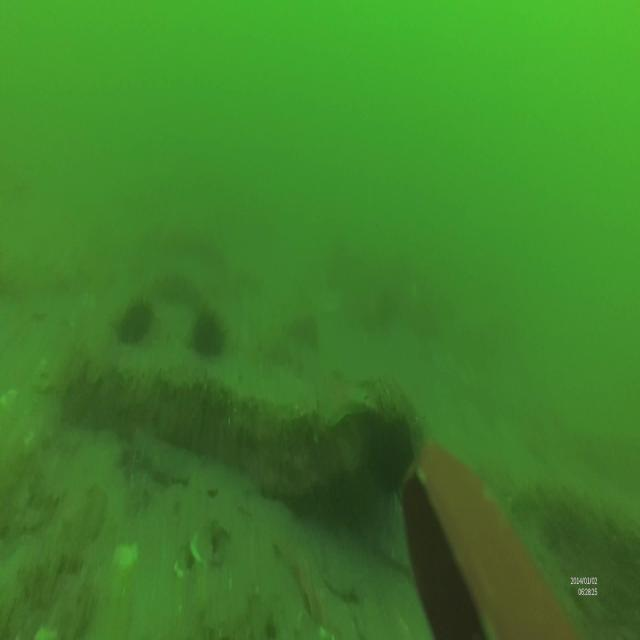echinus: (114, 289, 154, 349), (188, 304, 228, 359)
